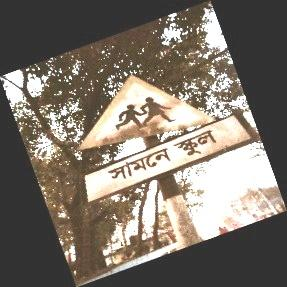School-in-front: (78, 74, 256, 217)
